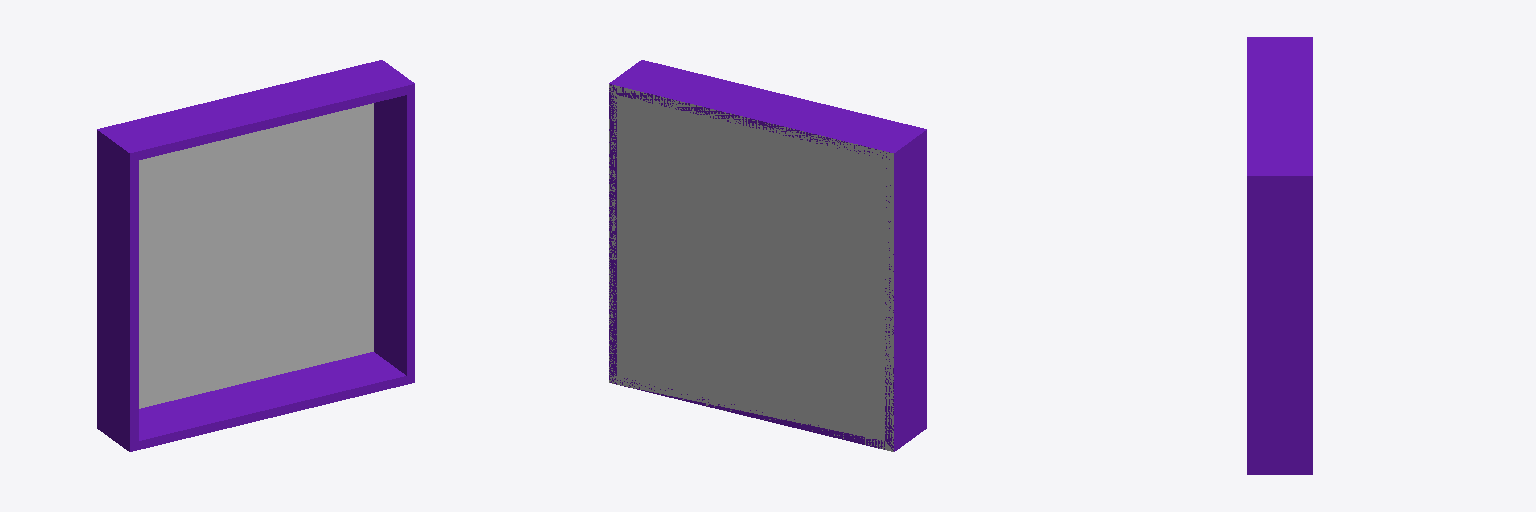
3 views of the same model, side by side, from view 1: azimuth 30°, elevation 25°; view 2: azimuth 150°, elevation 25°; view 3: azimuth 270°, elevation 25° (orthographic).
Visible parts, largest first — view 1: Plane; view 2: Plane; view 3: Plane.
Part boxes in pixels (x1,y1,x2,y2): Plane: (97, 60, 414, 451); Plane: (609, 60, 926, 451); Plane: (1247, 37, 1312, 474).
Size of the model in its own units: 10 by 10 by 2.
Materials: 2 (1 with a texture image).